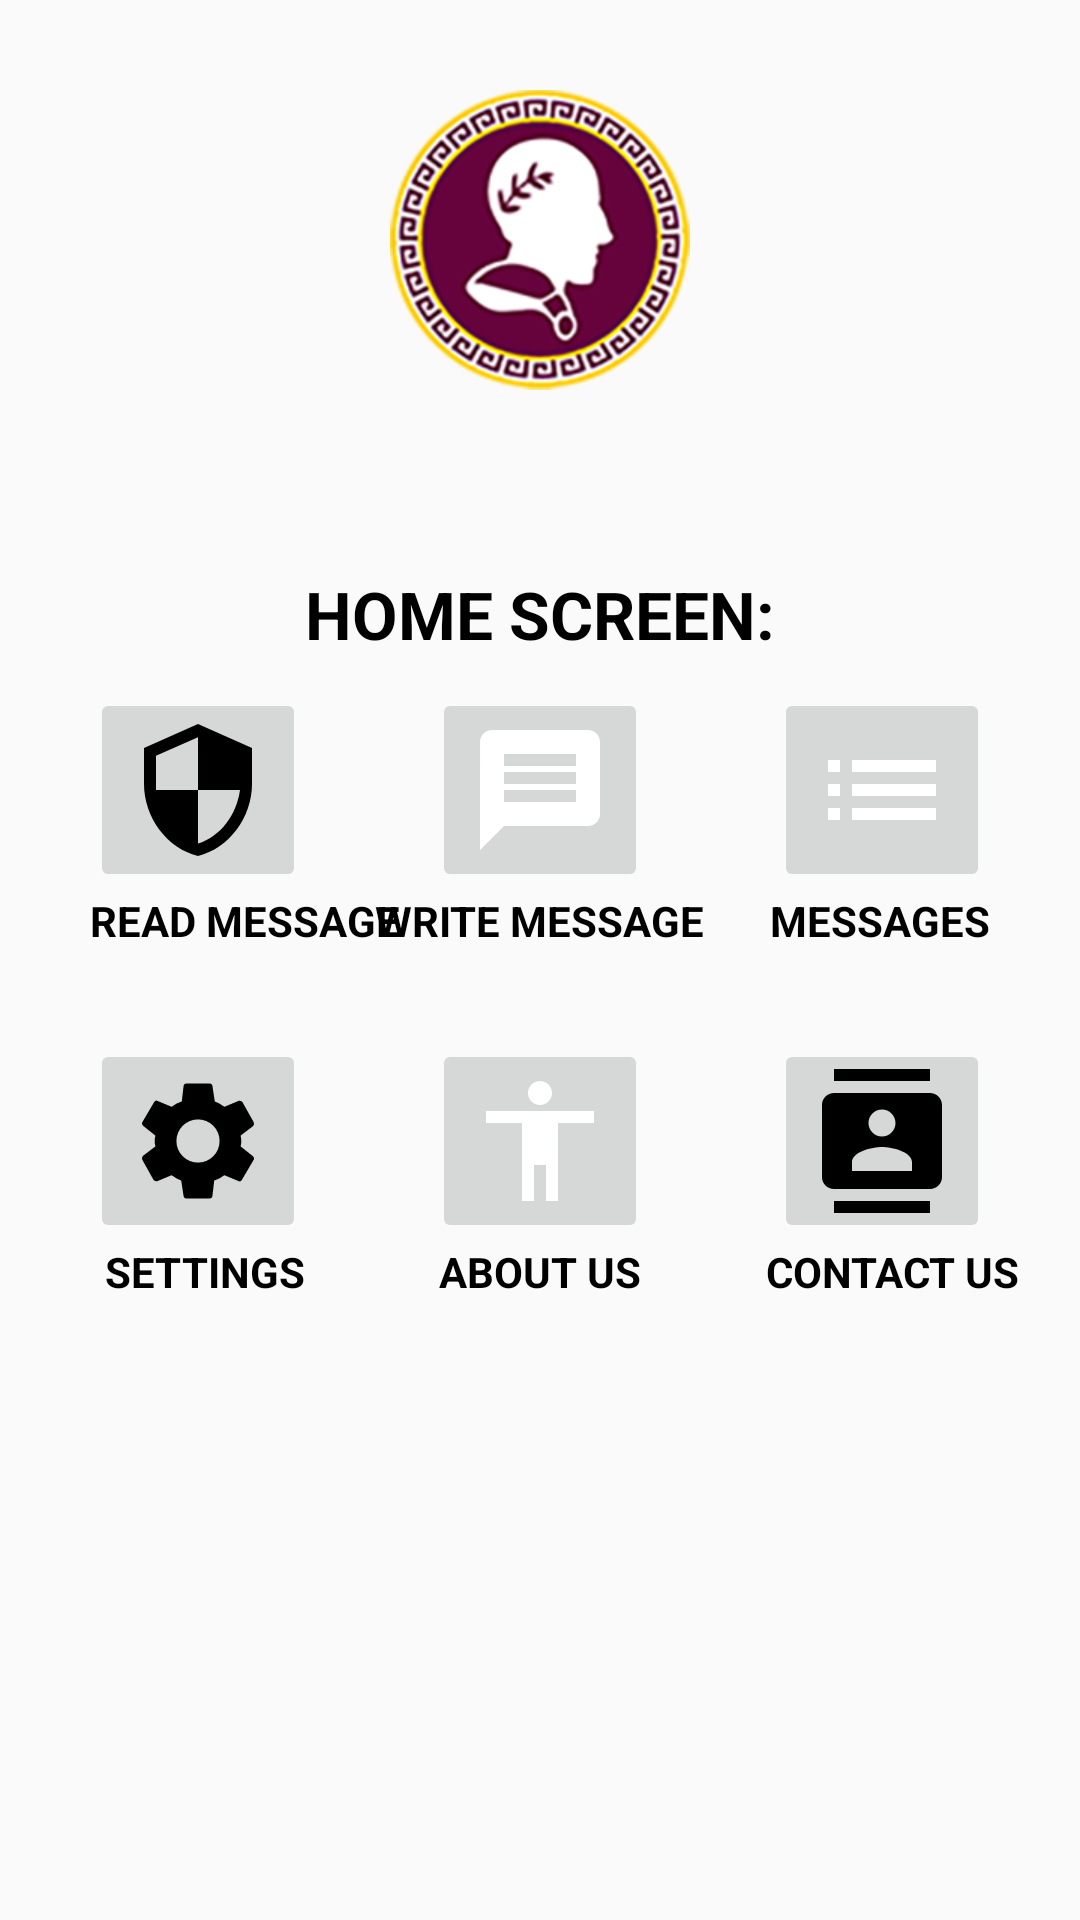

Named icons in this screenshot (1080x1920) and their centers, point (x, y):
accessibility: point (540, 1141)
list: point (882, 790)
security: point (198, 790)
